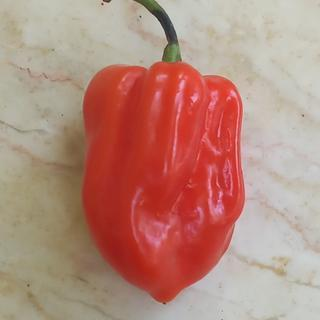Grade-A: (69, 55, 250, 306)
